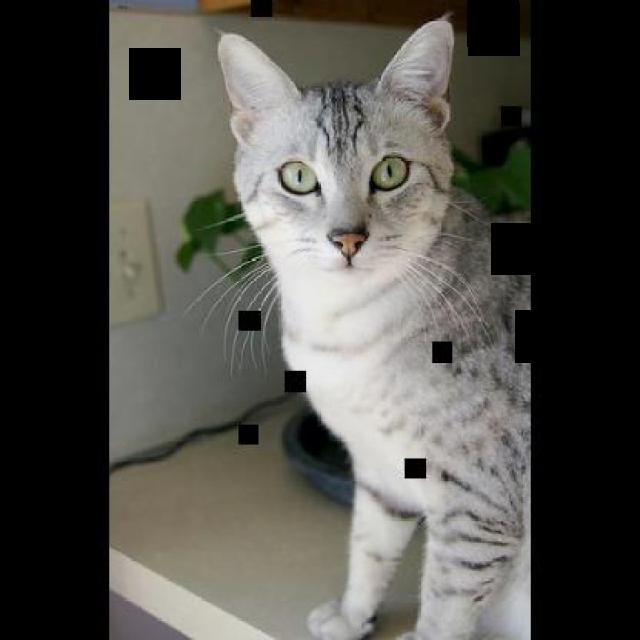unauthorized: (182, 9, 530, 638)
